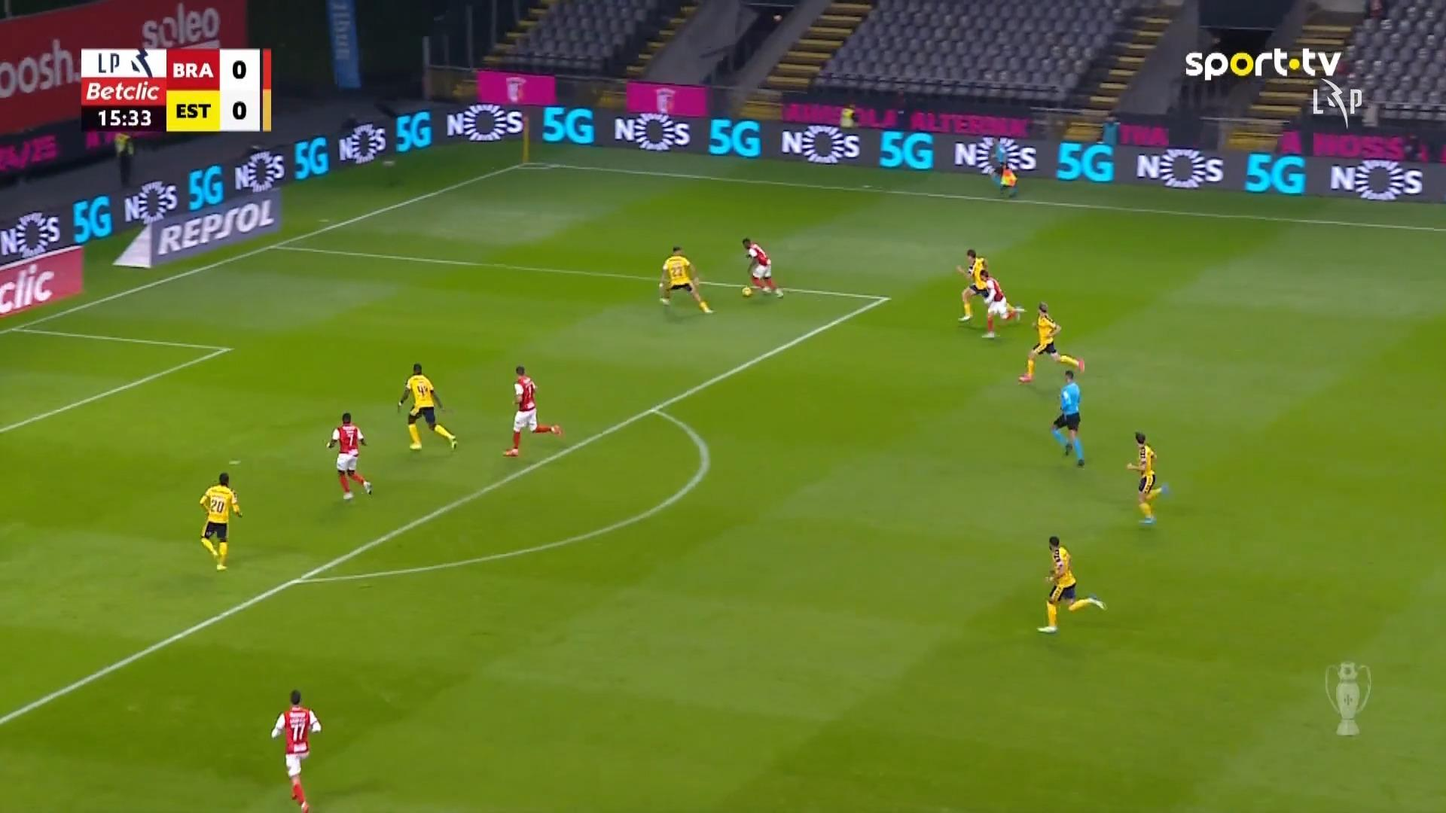ball: (741, 285, 752, 297)
player: (1036, 534, 1105, 633), (270, 688, 322, 811), (502, 364, 562, 457), (396, 361, 457, 452), (1017, 301, 1084, 382), (197, 470, 242, 570), (325, 411, 372, 500), (657, 245, 714, 314), (1125, 431, 1166, 524), (975, 268, 1025, 338), (740, 236, 784, 298), (955, 248, 992, 321)
referee: (1050, 369, 1085, 467), (988, 136, 1018, 199)
